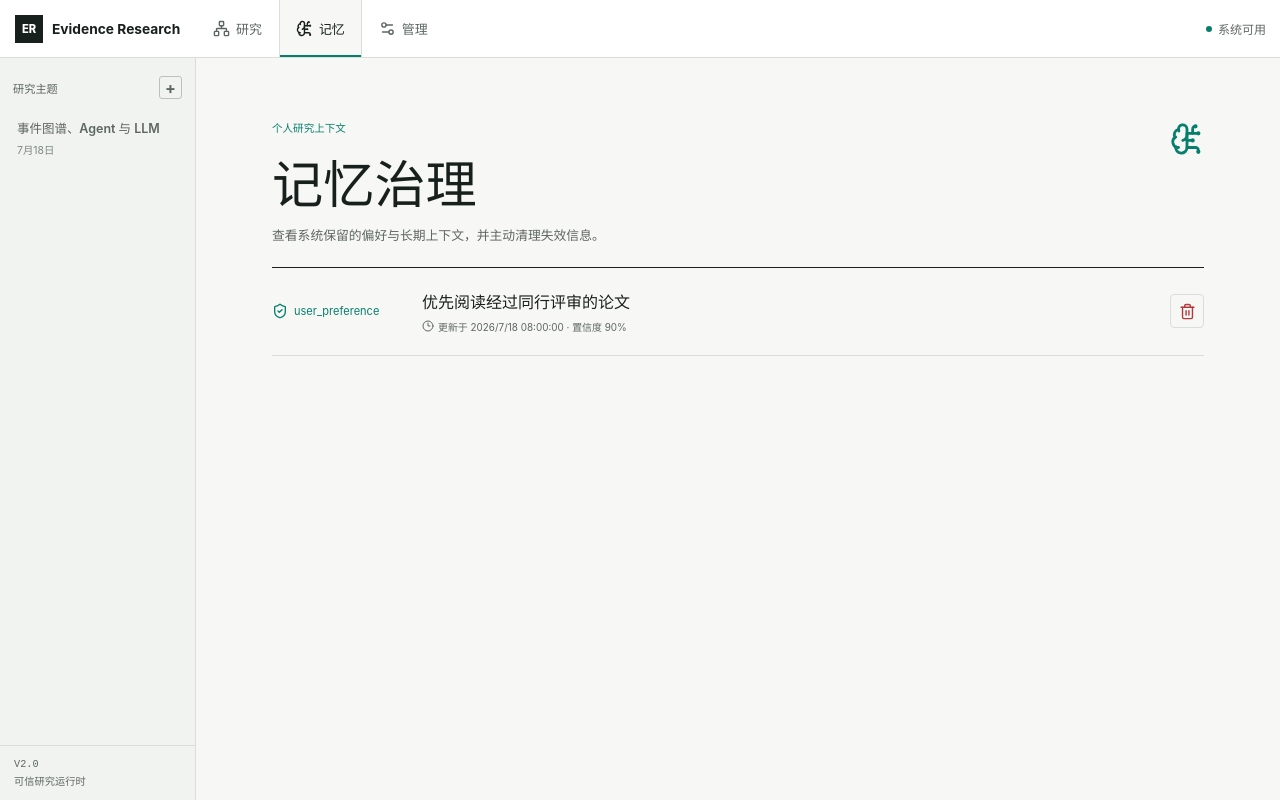
Scenario: research workspace › deletes a governed memory after confirmation
Click the button named "删除记忆".
click(1187, 311)  # box [1170,294,1204,328]
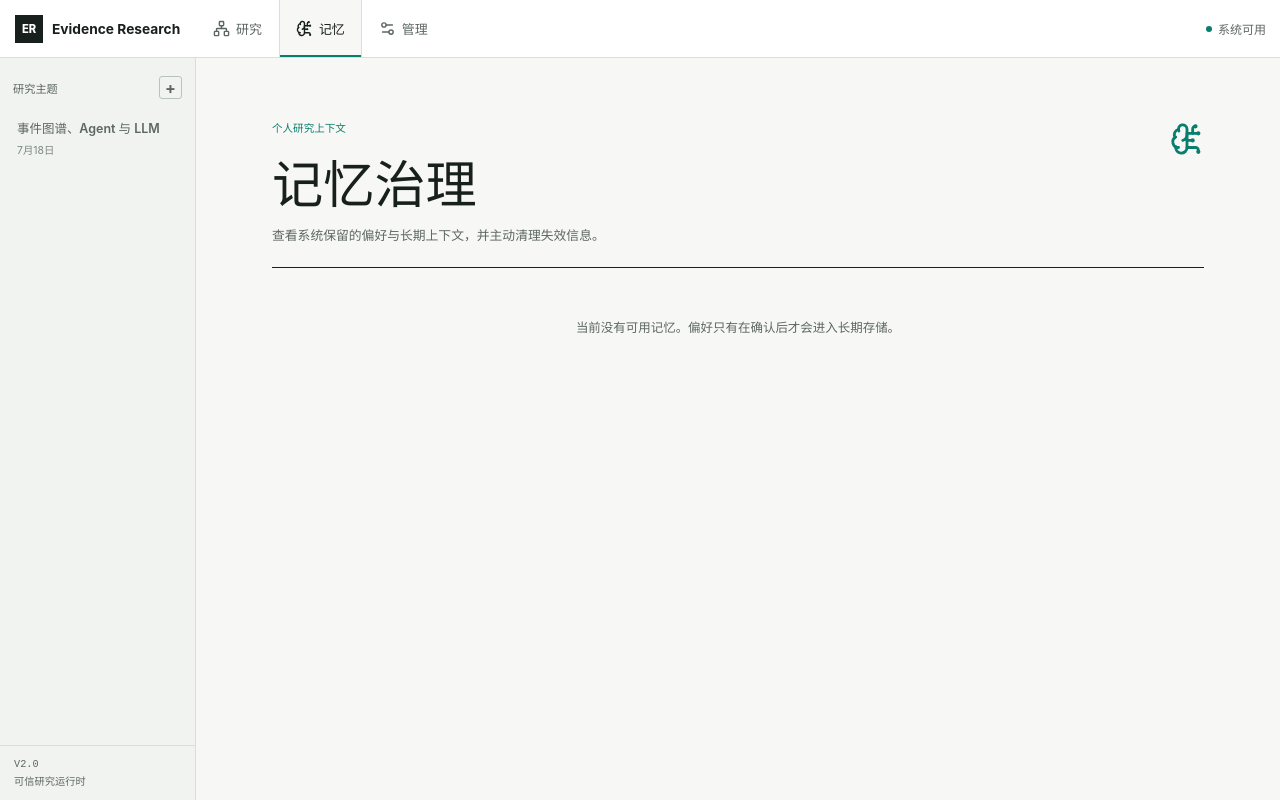
Expected: the text "优先阅读经过同行评审的论文" is gone
